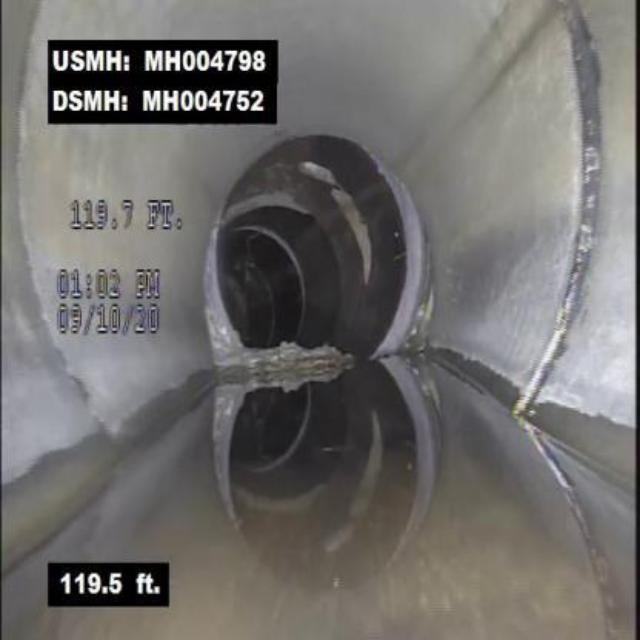Joint offset: (365, 125, 443, 395), (189, 198, 254, 389)
